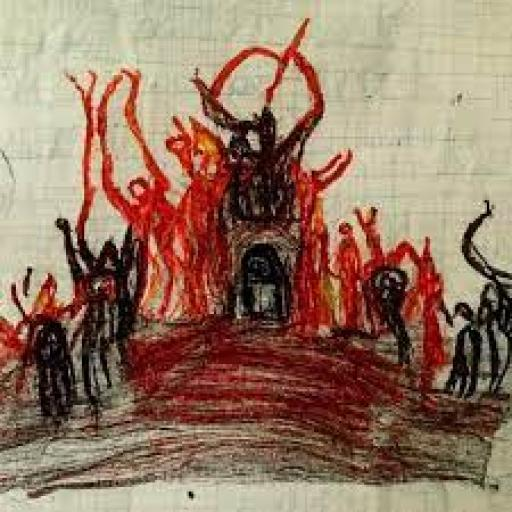person: (194, 23, 352, 332), (96, 71, 179, 316), (57, 219, 145, 414), (167, 119, 229, 320), (57, 219, 118, 407), (294, 153, 352, 332), (462, 201, 511, 393), (3, 303, 77, 430), (12, 274, 75, 423), (387, 239, 446, 391), (315, 224, 364, 334), (417, 239, 446, 389), (369, 267, 411, 364), (355, 208, 386, 336), (444, 303, 482, 398)
